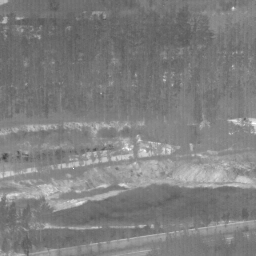aircraft: (100, 92, 102, 94)
